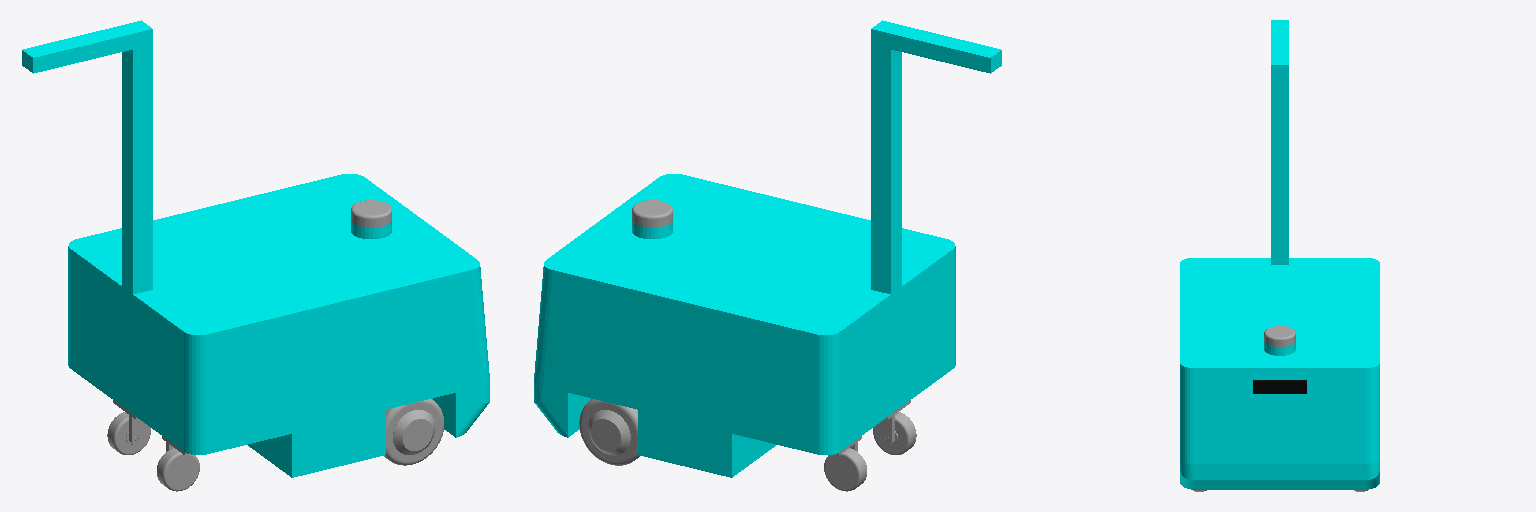
The robot description file, URDF, robot "VICA":
<?xml version="1.0" ?>
<!-- vica-variant base  vica-source-hash 6f24ef8f000573bf -->
<!-- =================================================================================== -->
<!-- |    This document was autogenerated by xacro from urdf/VICA.xacro                | -->
<!-- |    EDITING THIS FILE BY HAND IS NOT RECOMMENDED                                 | -->
<!-- =================================================================================== -->
<robot name="VICA">
  <material name="body_blue">
    <color rgba="0 1.0 1.0 1.0"/>
  </material>
  <material name="silver">
    <color rgba="0.70 0.70 0.70 1.0"/>
  </material>
  <material name="camera_black">
    <color rgba="0.08 0.08 0.08 1.0"/>
  </material>
  <link name="base_footprint"/>
  <joint name="base_footprint_joint" type="fixed">
    <origin rpy="0 0 0" xyz="0 0 0.19"/>
    <parent link="base_footprint"/>
    <child link="base_link"/>
  </joint>
  <link name="base_link">
    <!-- Chassis mass, weighed 2026-08-07.
       ========================================================
       The robot is 20 kg on a scale. This link carried 90.847,
       and the eight links together came to 94.280, which is 4.71 times
       the real machine. The exported inertia came out of CAD, so
       the likeliest cause is a material density that was never
       set; the shape is right and the density is not.

       Only this link is corrected. The other seven are left
       alone because their values are all plausible for the parts
       they describe: 0.566 kg for a 65 mm rubber drive wheel,
       0.115 kg for a caster wheel, 0.164 kg for the lidar
       (an RPLIDAR is about 0.19). Scaling those down with the
       chassis would have made them physically absurd to make an
       arithmetic total come out right.

       20 - 3.4325 (the other seven) = 16.5675, and the inertia
       scales with it at 0.182367 for unchanged geometry.

       What this changes, beyond the number:
         rotational inertia izz  4.167 -> 0.760 kg m^2
         drive wheel normal load  288 N -> 61 N
         caster scrub resistance 17.4 N -> 3.7 N

       And the centre of mass moves, because the wheels and
       casters (low and spread out) now carry a fifth of the
       robot instead of a twenty-fifth:
         x  +0.00087 -> -0.01089   (further behind the axle)
         z   0.22026 ->  0.20241   (lower)
       which takes the forward tipping deceleration from 6.82 to
       7.99 m/s^2. Correcting the mass made the robot harder to
       tip, not easier.

       [미검증] The distribution within this link is still CAD's.
       Weighing the drive and caster axles separately would give
       the real x, and a tilt test the real z; until then the two
       numbers above are the shape's, not the robot's. -->
    <inertial>
      <origin rpy="0 0 0" xyz="0.004031215194176557 3.002726997808124e-17 0.03506562657816282"/>
      <mass value="16.5675"/>
      <inertia ixx="0.438065" ixy="0.0" ixz="0.062604" iyy="0.660628" iyz="-0.0" izz="0.759891"/>
    </inertial>
    <visual>
      <origin rpy="0 0 0" xyz="0 0 -0.041"/>
      <geometry>
        <mesh filename="package://vica_description/meshes/base_link.stl" scale="0.001 0.001 0.001"/>
      </geometry>
      <material name="body_blue"/>
    </visual>
    <!-- Keep the lower collider narrow enough to leave the wheel contact region clear. -->
    <collision name="chassis_body_collision">
      <origin rpy="0 0 0" xyz="0 0 0.0585"/>
      <geometry>
        <box size="0.61 0.28 0.401"/>
      </geometry>
    </collision>
    <collision name="chassis_mast_collision">
      <origin rpy="0 0 0" xyz="-0.385 0 0.466"/>
      <geometry>
        <box size="0.24 0.04 0.414"/>
      </geometry>
    </collision>
  </link>
  <link name="left_wheel_1">
    <inertial>
      <origin rpy="0 0 0" xyz="2.0539125955565396e-15 0.03668765550201605 0.0"/>
      <mass value="0.5663250710944822"/>
      <inertia ixx="0.000634" ixy="0.0" ixz="0.0" iyy="0.001025" iyz="-0.0" izz="0.000634"/>
    </inertial>
    <visual>
      <origin rpy="0 0 0" xyz="-0.154 -0.182 0.084"/>
      <geometry>
        <mesh filename="package://vica_description/meshes/left_wheel_1.stl" scale="0.001 0.001 0.001"/>
      </geometry>
      <material name="silver"/>
    </visual>
    <collision>
      <!-- URDF cylinders are Z-aligned; rotate onto this wheel's Y axis. -->
      <origin rpy="1.5707963267948966 0 0" xyz="0 0 0"/>
      <geometry>
        <cylinder length="0.0678" radius="0.065"/>
      </geometry>
    </collision>
  </link>
  <link name="right_wheel_1">
    <inertial>
      <origin rpy="0 0 0" xyz="-0.00046568184733652984 -0.03568765550201608 0.0009570426748952837"/>
      <mass value="0.5663250710944814"/>
      <inertia ixx="0.000634" ixy="0.0" ixz="-0.0" iyy="0.001025" iyz="0.0" izz="0.000634"/>
    </inertial>
    <visual>
      <origin rpy="0 0 0" xyz="-0.154 0.182 0.084"/>
      <geometry>
        <mesh filename="package://vica_description/meshes/right_wheel_1.stl" scale="0.001 0.001 0.001"/>
      </geometry>
      <material name="silver"/>
    </visual>
    <collision>
      <!-- URDF cylinders are Z-aligned; rotate onto this wheel's Y axis. -->
      <origin rpy="1.5707963267948966 0 0" xyz="0 0 0"/>
      <geometry>
        <cylinder length="0.0678" radius="0.065"/>
      </geometry>
    </collision>
  </link>
  <link name="front_left_caster_wheel_1">
    <inertial>
      <origin rpy="0 0 0" xyz="-1.6653345369377348e-15 0.01574568542726719 0.0"/>
      <mass value="0.11451893837110633"/>
      <inertia ixx="4.7e-05" ixy="-0.0" ixz="0.0" iyy="7.8e-05" iyz="0.0" izz="4.7e-05"/>
    </inertial>
    <visual>
      <origin rpy="0 0 0" xyz="0.252 -0.0795 0.107"/>
      <geometry>
        <mesh filename="package://vica_description/meshes/front_left_caster_wheel_1.stl" scale="0.001 0.001 0.001"/>
      </geometry>
      <material name="silver"/>
    </visual>
    <collision>
      <!-- URDF cylinders are Z-aligned; rotate onto this wheel's Y axis. -->
      <origin rpy="1.5707963267948966 0 0" xyz="0 0 0"/>
      <geometry>
        <cylinder length="0.04" radius="0.042"/>
      </geometry>
    </collision>
  </link>
  <link name="front_right_caster_wheel_1">
    <inertial>
      <origin rpy="0 0 0" xyz="5.162537064506978e-15 -0.015745685427267203 0.0"/>
      <mass value="0.11451893837110629"/>
      <inertia ixx="4.7e-05" ixy="-0.0" ixz="-0.0" iyy="7.8e-05" iyz="0.0" izz="4.7e-05"/>
    </inertial>
    <visual>
      <origin rpy="0 0 0" xyz="0.252 0.0795 0.107"/>
      <geometry>
        <mesh filename="package://vica_description/meshes/front_right_caster_wheel_1.stl" scale="0.001 0.001 0.001"/>
      </geometry>
      <material name="silver"/>
    </visual>
    <collision>
      <!-- URDF cylinders are Z-aligned; rotate onto this wheel's Y axis. -->
      <origin rpy="1.5707963267948966 0 0" xyz="0 0 0"/>
      <geometry>
        <cylinder length="0.04" radius="0.042"/>
      </geometry>
    </collision>
  </link>
  <link name="front_right_caster_steer_1">
    <inertial>
      <origin rpy="0 0 0" xyz="-0.004080894044594496 0.0037449849629774684 -0.017666622102230287"/>
      <mass value="0.9536308497491053"/>
      <inertia ixx="0.000637" ixy="4e-05" ixz="-8.2e-05" iyy="0.000626" iyz="8.5e-05" izz="0.000908"/>
    </inertial>
    <visual>
      <origin rpy="0 0 0" xyz="0.222 0.0845 0.0415"/>
      <geometry>
        <mesh filename="package://vica_description/meshes/front_right_caster_steer_1.stl" scale="0.001 0.001 0.001"/>
      </geometry>
      <material name="silver"/>
    </visual>
    <collision>
      <!-- CAD bounding box of the steer bracket; the STL became a convex hull on import. -->
      <origin rpy="0 0 0" xyz="0 0 0.003"/>
      <geometry>
        <box size="0.08 0.08 0.0755"/>
      </geometry>
    </collision>
  </link>
  <link name="front_left_caster_steer_1">
    <inertial>
      <origin rpy="0 0 0" xyz="-0.004080894044594496 -0.003744984962977496 -0.017666622102230287"/>
      <mass value="0.9536308497491053"/>
      <inertia ixx="0.000637" ixy="-4e-05" ixz="-8.2e-05" iyy="0.000626" iyz="-8.5e-05" izz="0.000908"/>
    </inertial>
    <visual>
      <origin rpy="0 0 0" xyz="0.222 -0.0845 0.0415"/>
      <geometry>
        <mesh filename="package://vica_description/meshes/front_left_caster_steer_1.stl" scale="0.001 0.001 0.001"/>
      </geometry>
      <material name="silver"/>
    </visual>
    <collision>
      <!-- CAD bounding box of the steer bracket; the STL became a convex hull on import. -->
      <origin rpy="0 0 0" xyz="0 0 0.003"/>
      <geometry>
        <box size="0.08 0.08 0.0755"/>
      </geometry>
    </collision>
  </link>
  <link name="laser_frame">
    <inertial>
      <origin rpy="0 0 0" xyz="0.0 0.0 0.010868727234877334"/>
      <mass value="0.16353480730457975"/>
      <inertia ixx="5.9e-05" ixy="0.0" ixz="-0.0" iyy="5.9e-05" iyz="-0.0" izz="0.000105"/>
    </inertial>
    <visual>
      <origin rpy="0 0 0" xyz="-0.185 -0.0 -0.233"/>
      <geometry>
        <mesh filename="package://vica_description/meshes/lidar_1.stl" scale="0.001 0.001 0.001"/>
      </geometry>
      <material name="silver"/>
    </visual>
    <!-- No collision: a lidar has nothing to collide with, and the STL becomes a
       convex hull on Isaac import that the scan then sees as an obstacle. -->
  </link>
  <link name="camera_link">
    <!-- RViz placeholder; Isaac Sim uses its own D455 USD sensor asset. -->
    <visual>
      <origin rpy="0 0 0" xyz="0 0 0"/>
      <geometry>
        <!-- D455 nominal depth x width x height: 26 x 124 x 29 mm. -->
        <box size="0.026 0.124 0.029"/>
      </geometry>
      <material name="camera_black"/>
    </visual>
  </link>
  <link name="camera_optical_frame"/>
  <!-- The RealSense driver publishes camera_color_optical_frame and
     camera_depth_optical_frame at runtime, so the physical robot's URDF must
     not declare them: two publishers for one frame is a TF fight.

     Isaac runs no driver, so here the URDF is the only thing that can supply
     them, and it has to: the image headers coming out of the Isaac graphs
     carry those frame names, and nvblox subscribes by them.

     Simplification: both sit at camera_link, ignoring the few-centimetre
     baseline between the D455's colour and depth imagers that the real driver
     reports. Harmless for costmaps at this range; check it before trusting
     close-up colour-to-depth registration. -->
  <link name="camera_color_optical_frame"/>
  <link name="camera_depth_optical_frame"/>
  <joint name="left_wheel_joint" type="continuous">
    <origin rpy="0 0 0" xyz="0.154 0.182 -0.125"/>
    <parent link="base_link"/>
    <child link="left_wheel_1"/>
    <axis xyz="0.0 1.0 0.0"/>
    <dynamics damping="0.1" friction="0.0"/>
    <limit effort="100.0" velocity="20.0"/>
  </joint>
  <joint name="right_wheel_joint" type="continuous">
    <origin rpy="0 0 0" xyz="0.154 -0.182 -0.125"/>
    <parent link="base_link"/>
    <child link="right_wheel_1"/>
    <axis xyz="0.0 1.0 0.0"/>
    <dynamics damping="0.1" friction="0.0"/>
    <limit effort="100.0" velocity="20.0"/>
  </joint>
  <joint name="front_left_caster_wheel_joint" type="continuous">
    <origin rpy="0 0 0" xyz="-0.03 -0.005 -0.0655"/>
    <parent link="front_left_caster_steer_1"/>
    <child link="front_left_caster_wheel_1"/>
    <axis xyz="0.0 -1.0 0.0"/>
  </joint>
  <joint name="front_right_caster_wheel_joint" type="continuous">
    <origin rpy="0 0 0" xyz="-0.03 0.005 -0.0655"/>
    <parent link="front_right_caster_steer_1"/>
    <child link="front_right_caster_wheel_1"/>
    <axis xyz="0.0 -1.0 0.0"/>
  </joint>
  <joint name="front_right_caster_steer_joint" type="continuous">
    <origin rpy="0 0 0" xyz="-0.222 -0.0845 -0.0825"/>
    <parent link="base_link"/>
    <child link="front_right_caster_steer_1"/>
    <axis xyz="0.0 0.0 -1.0"/>
  </joint>
  <joint name="front_left_caster_steer_joint" type="continuous">
    <origin rpy="0 0 0" xyz="-0.222 0.0845 -0.0825"/>
    <parent link="base_link"/>
    <child link="front_left_caster_steer_1"/>
    <axis xyz="0.0 0.0 -1.0"/>
  </joint>
  <!-- Sensor positions are expressed relative to the body-centered base_link. -->
  <joint name="laser_joint" type="fixed">
    <origin rpy="0 0 0" xyz="0.185 0.0 0.192"/>
    <parent link="base_link"/>
    <child link="laser_frame"/>
  </joint>
  <joint name="camera_joint" type="fixed">
    <origin rpy="0 0 0" xyz="0.28683 0.0 0.13"/>
    <parent link="base_link"/>
    <child link="camera_link"/>
  </joint>
  <!-- REP-103 optical convention: +Z forward, +X right, +Y down. -->
  <joint name="camera_optical_joint" type="fixed">
    <origin rpy="-1.5707963267948966 0 -1.5707963267948966" xyz="0 0 0"/>
    <parent link="camera_link"/>
    <child link="camera_optical_frame"/>
  </joint>
  <!-- Same rotation, under the names the RealSense driver would publish. See the
     note at the link declarations for why these exist only in simulation. -->
  <joint name="camera_color_optical_joint" type="fixed">
    <origin rpy="-1.5707963267948966 0 -1.5707963267948966" xyz="0 0 0"/>
    <parent link="camera_link"/>
    <child link="camera_color_optical_frame"/>
  </joint>
  <joint name="camera_depth_optical_joint" type="fixed">
    <origin rpy="-1.5707963267948966 0 -1.5707963267948966" xyz="0 0 0"/>
    <parent link="camera_link"/>
    <child link="camera_depth_optical_frame"/>
  </joint>
</robot>

--- What the picture shows (computed from the rendered views, not written in the file) ---
3 views of the same robot in one strip: view 1: azimuth 30°, elevation 25°; view 2: azimuth 150°, elevation 25°; view 3: azimuth 270°, elevation 25° (orthographic).
Robot: VICA — 13 links, 12 joints (6 continuous, 6 fixed); root link base_footprint; default pose: all joints at 0.
Links seen in each view (by area): view 1: base_link, right_wheel_1, front_right_caster_wheel_1, laser_frame, front_left_caster_wheel_1; view 2: base_link, left_wheel_1, front_left_caster_wheel_1, laser_frame, front_right_caster_wheel_1; view 3: base_link, camera_link, laser_frame.
Link boxes in pixels (x1,y1,x2,y2): base_link: (22, 20, 489, 477); right_wheel_1: (384, 399, 443, 465); front_right_caster_wheel_1: (157, 448, 199, 491); laser_frame: (351, 200, 391, 227); front_left_caster_wheel_1: (107, 412, 150, 454); base_link: (534, 20, 1001, 477); left_wheel_1: (579, 399, 639, 465); front_left_caster_wheel_1: (824, 448, 866, 491); laser_frame: (632, 200, 672, 227); front_right_caster_wheel_1: (873, 412, 916, 454); base_link: (1180, 20, 1379, 489); camera_link: (1253, 380, 1306, 393); laser_frame: (1264, 326, 1295, 346).
Bounding box of the posed robot: 0.81 × 0.453 × 0.863 m (x, y, z).
8 mesh visuals loaded from 8 distinct referenced files (8 binary STL).
